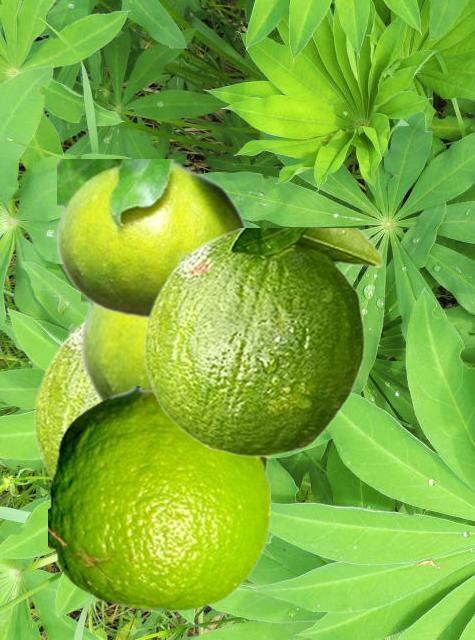dalandan: (143, 228, 383, 456), (48, 386, 269, 610), (57, 159, 249, 321), (33, 318, 96, 481), (81, 298, 150, 401)
